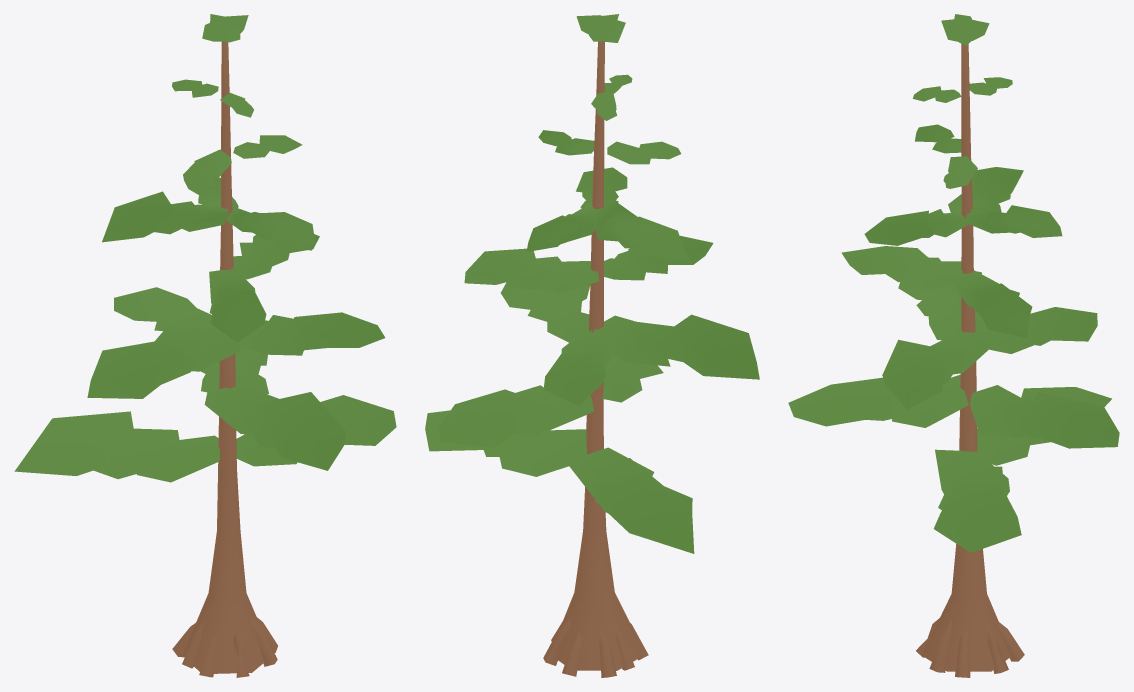
File: Blender_BaldCypress_2_Far.glb
3 renders of one model, left to right at view 1: azimuth 30°, elevation 25°; view 2: azimuth 150°, elevation 25°; view 3: azimuth 270°, elevation 25°, orthographic.
Parts seen in each view (by area): view 1: Blender_BaldCypress_2_Far; view 2: Blender_BaldCypress_2_Far; view 3: Blender_BaldCypress_2_Far.
Part boxes in pixels (left/top/right/bottom): Blender_BaldCypress_2_Far: left=14, top=14, right=396, bottom=677; Blender_BaldCypress_2_Far: left=425, top=14, right=759, bottom=677; Blender_BaldCypress_2_Far: left=788, top=14, right=1119, bottom=677.
Size of the model in its own units: 12.65 by 23.98 by 11.24.
